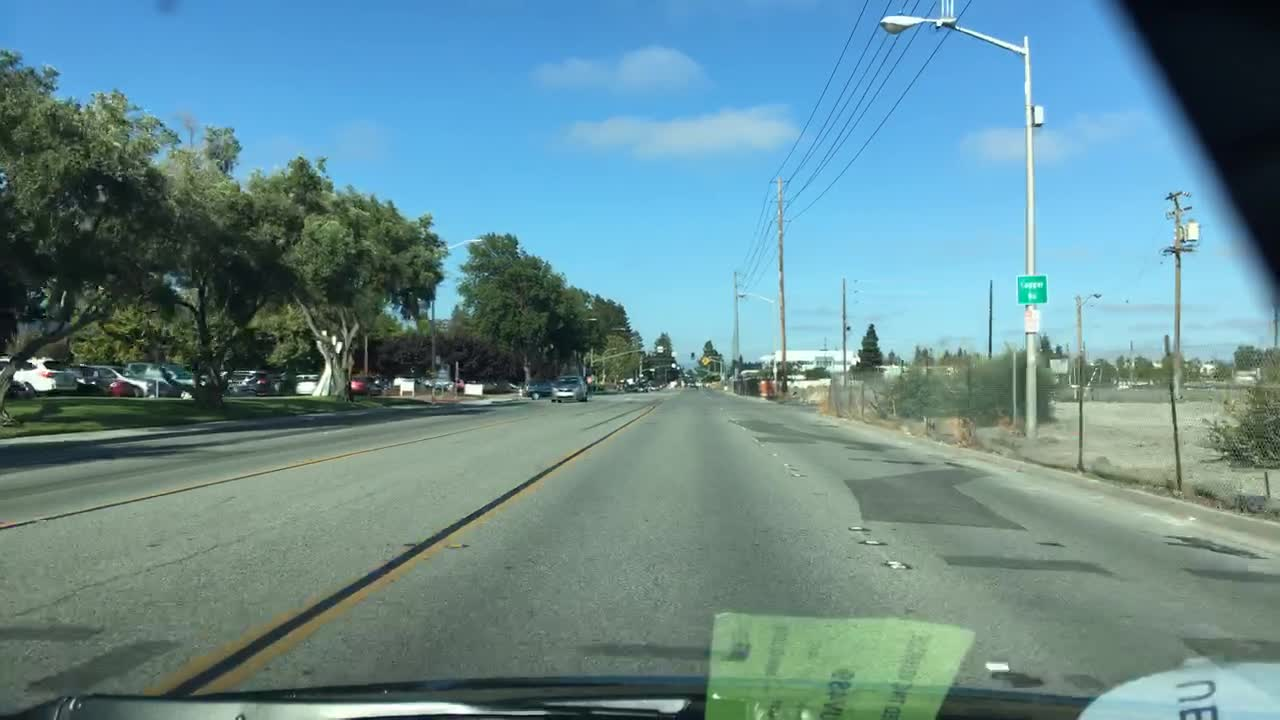car: (0, 352, 79, 396), (82, 361, 169, 399), (133, 356, 206, 398), (63, 362, 131, 399), (205, 365, 268, 399), (552, 372, 587, 405), (286, 372, 323, 396), (346, 372, 380, 398), (518, 379, 558, 401), (259, 373, 292, 398), (421, 373, 455, 396), (489, 375, 515, 390), (464, 375, 489, 390), (624, 381, 647, 395), (685, 378, 698, 390)
traffic light: (693, 350, 696, 365)
traffic sign: (1019, 276, 1049, 303), (1025, 307, 1042, 333), (699, 355, 711, 367)
